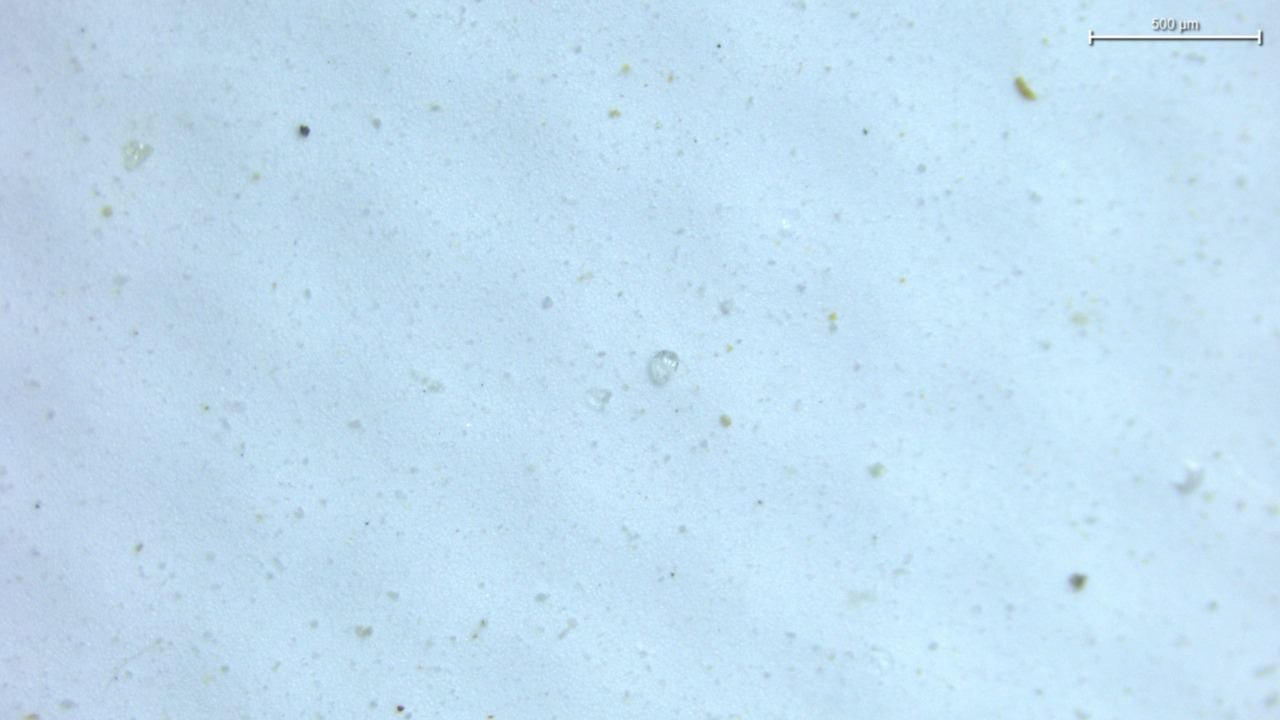microplastic_fragment: (647, 350, 679, 386)
